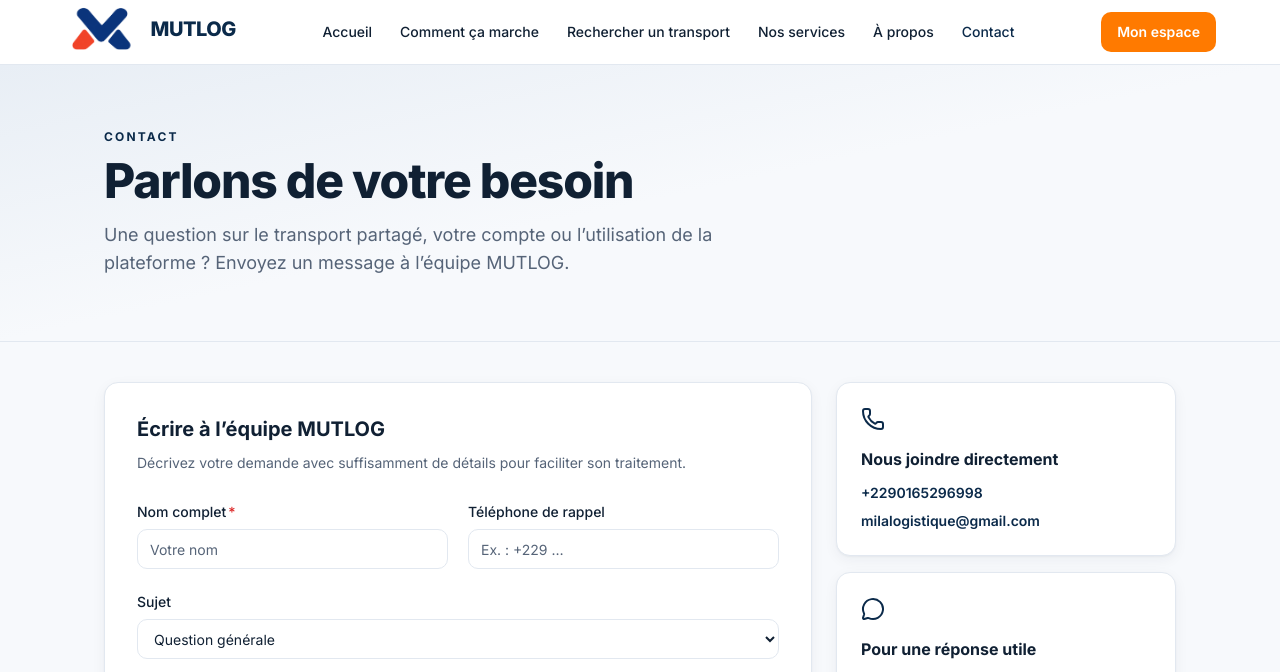
Scenario: messages de contact : du visiteur à l’administrateur › le visiteur non connecté envoie son message à l’API (champ piège vide)
Type "Awa K." into the field labelled "Nom complet*". click: {"x": 292, "y": 549}
box: x1=137 y1=529 x2=448 y2=569
(page scrolled)
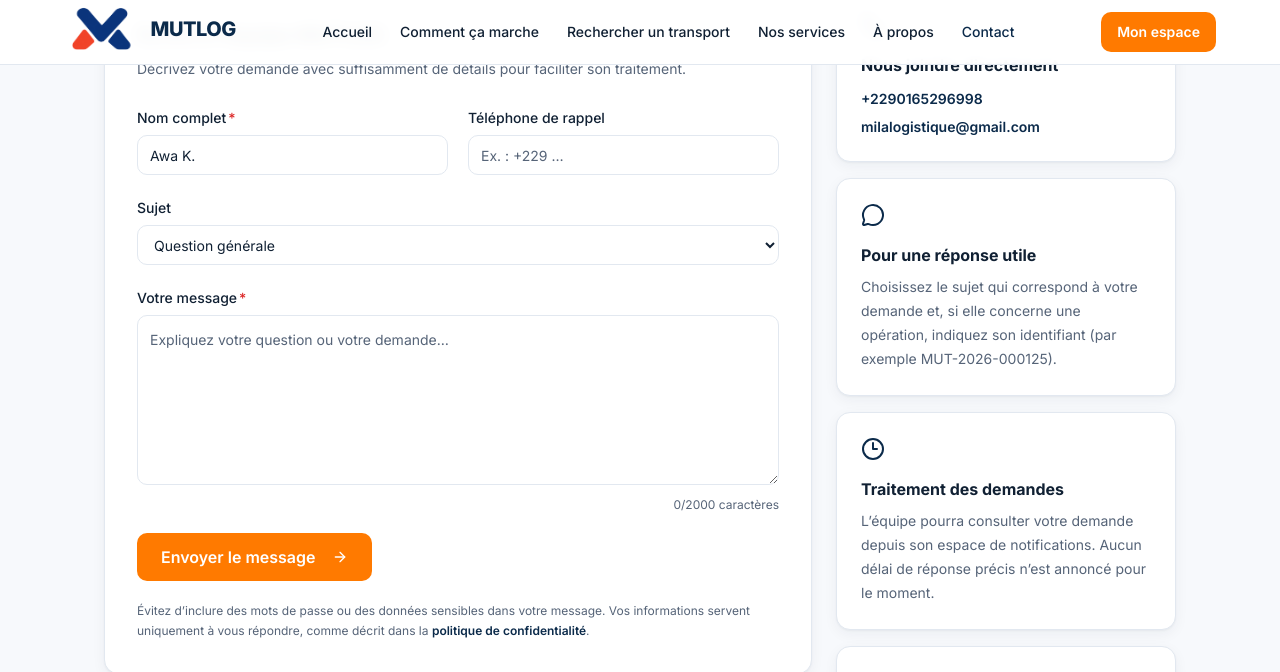
Type "Bonjour, comment réserver un camion ?" into the text box labelled "Votre message*". click: {"x": 458, "y": 400}
box: x1=137 y1=315 x2=779 y2=485
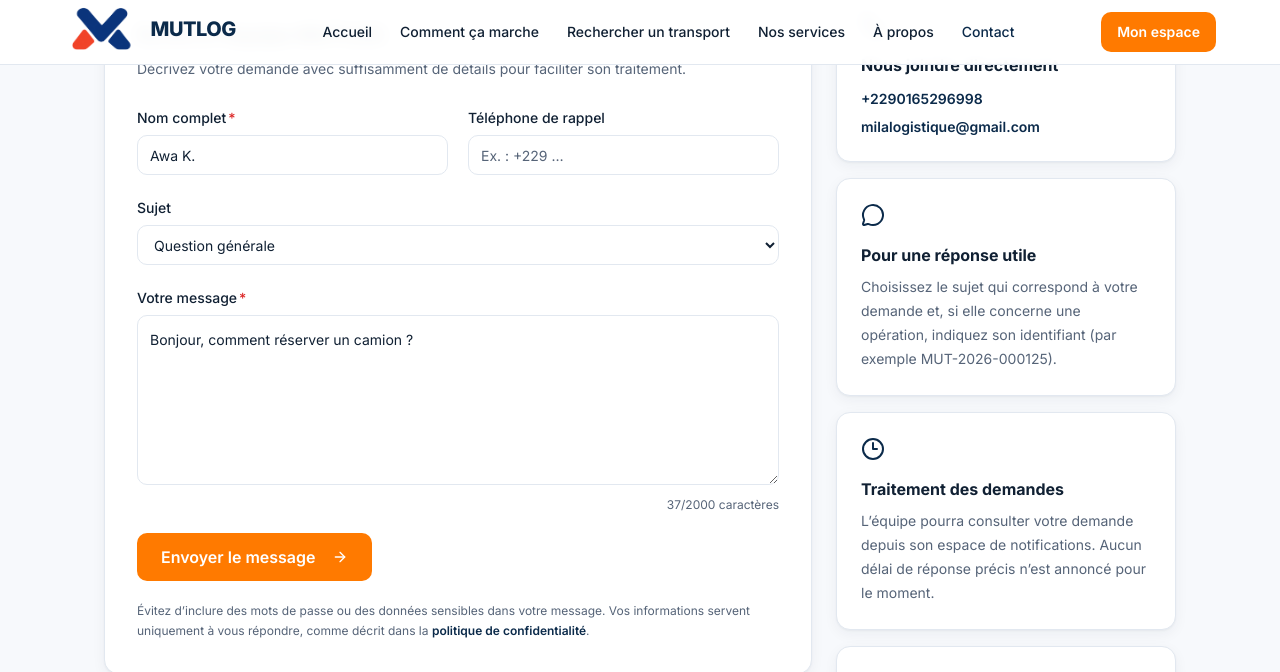
Click the button "Envoyer le message". click: {"x": 254, "y": 557}
box: x1=137 y1=533 x2=372 y2=581
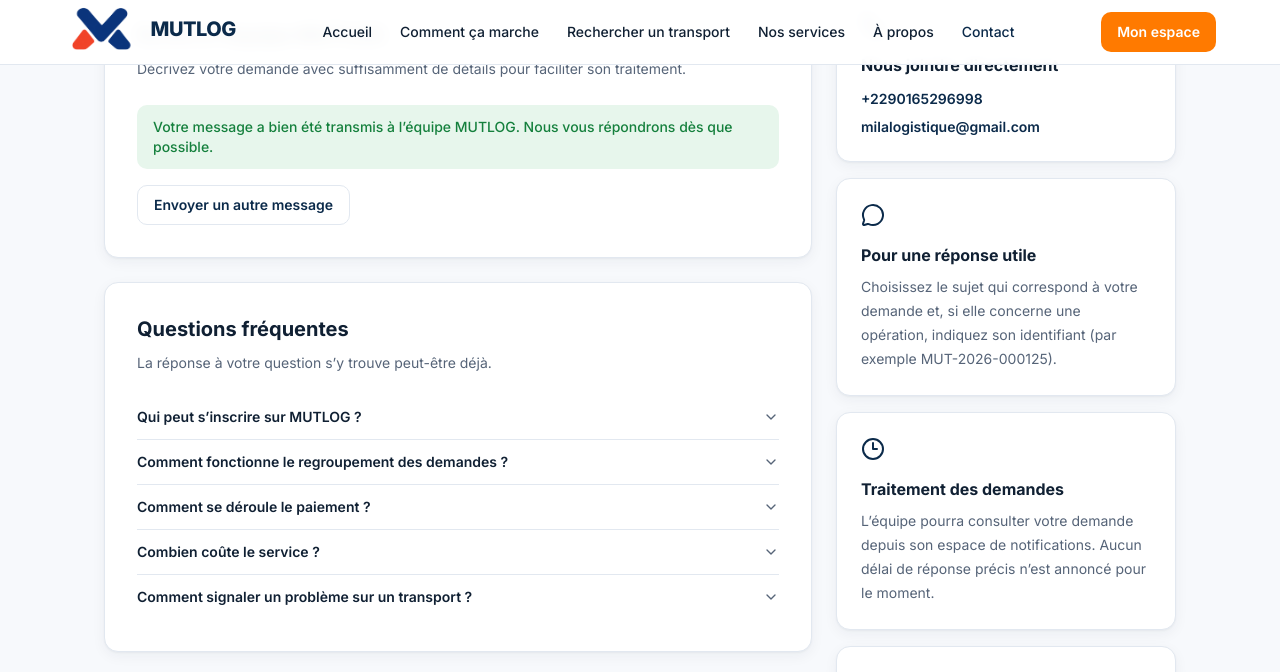
expect the text "Votre message a bien été transmis" is shown: met, box x1=153 y1=118 x2=733 y2=155
